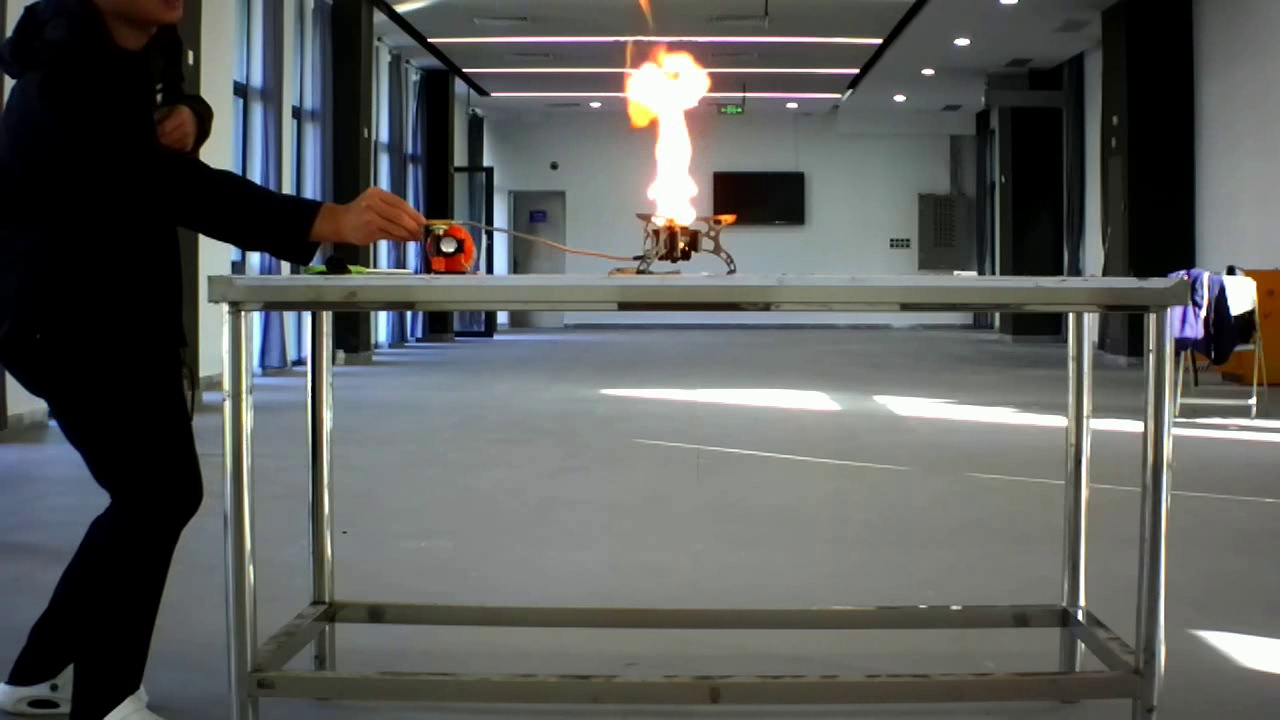Fire: (608, 35, 742, 261)
